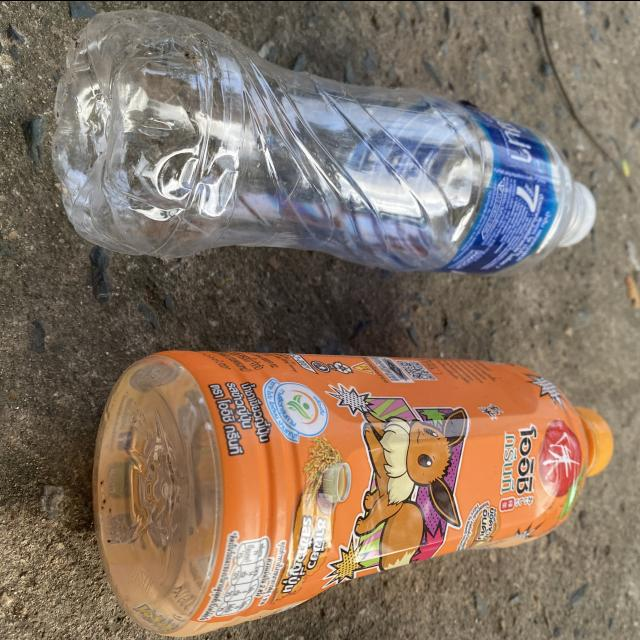plastik: (94, 350, 613, 636), (53, 10, 595, 274)
